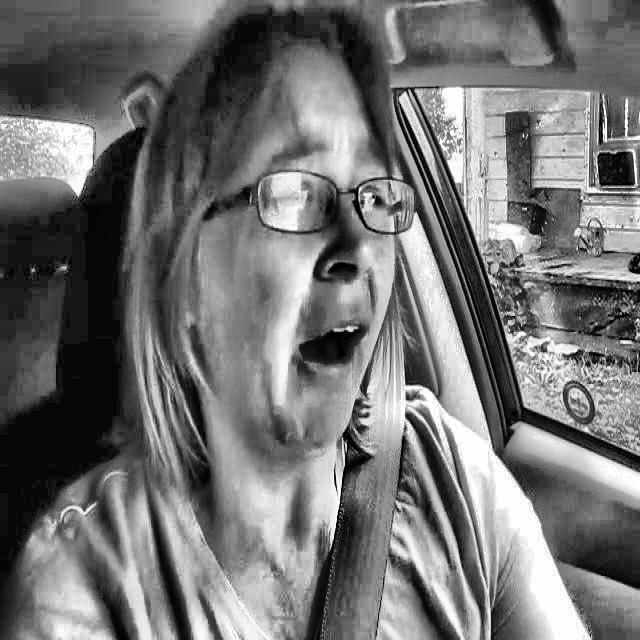open_mouth: (282, 310, 385, 403)
